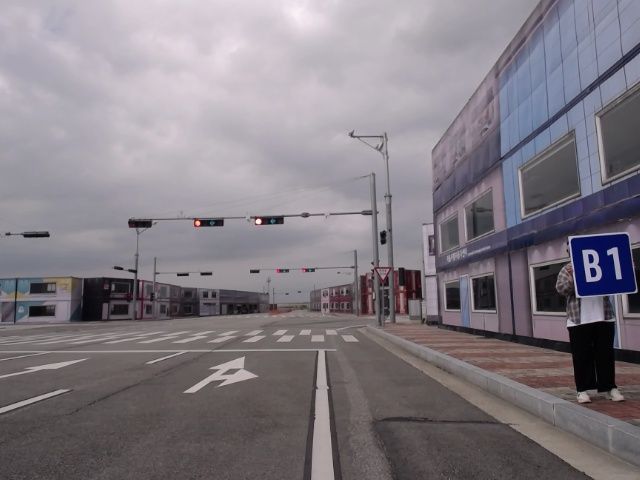delivery_b1: (568, 233, 637, 297)
left_green_4: (255, 216, 284, 225), (194, 219, 224, 227), (303, 268, 315, 273), (276, 269, 290, 273)
